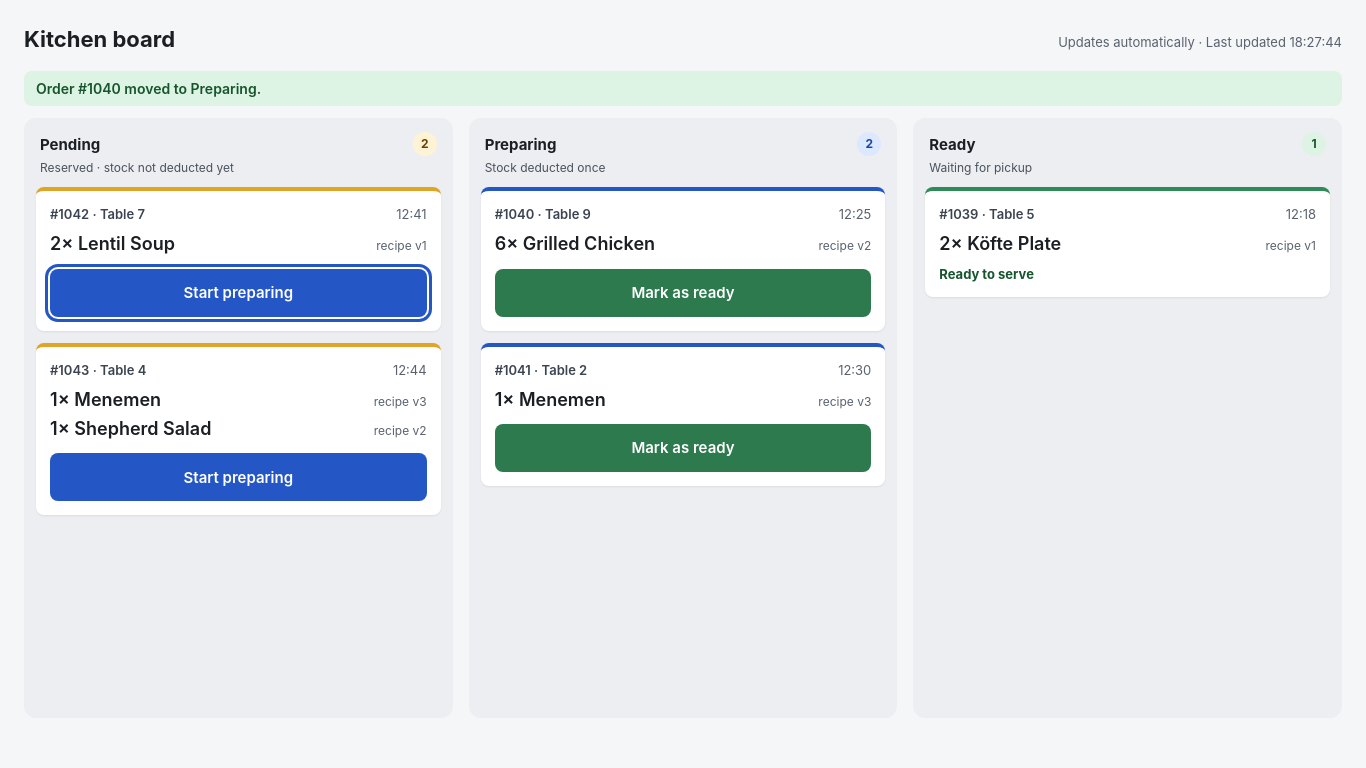
Test case: KitchenBoardPage › keeps the conflict reload when a refresh group is already in flight
The image size is (1366, 768).
Earlier steps of the test are not shown.
Click the button with aria-label "Start preparing order #1043" at x=238, y=477, box top-left (50, 453), bottom-right (427, 501)
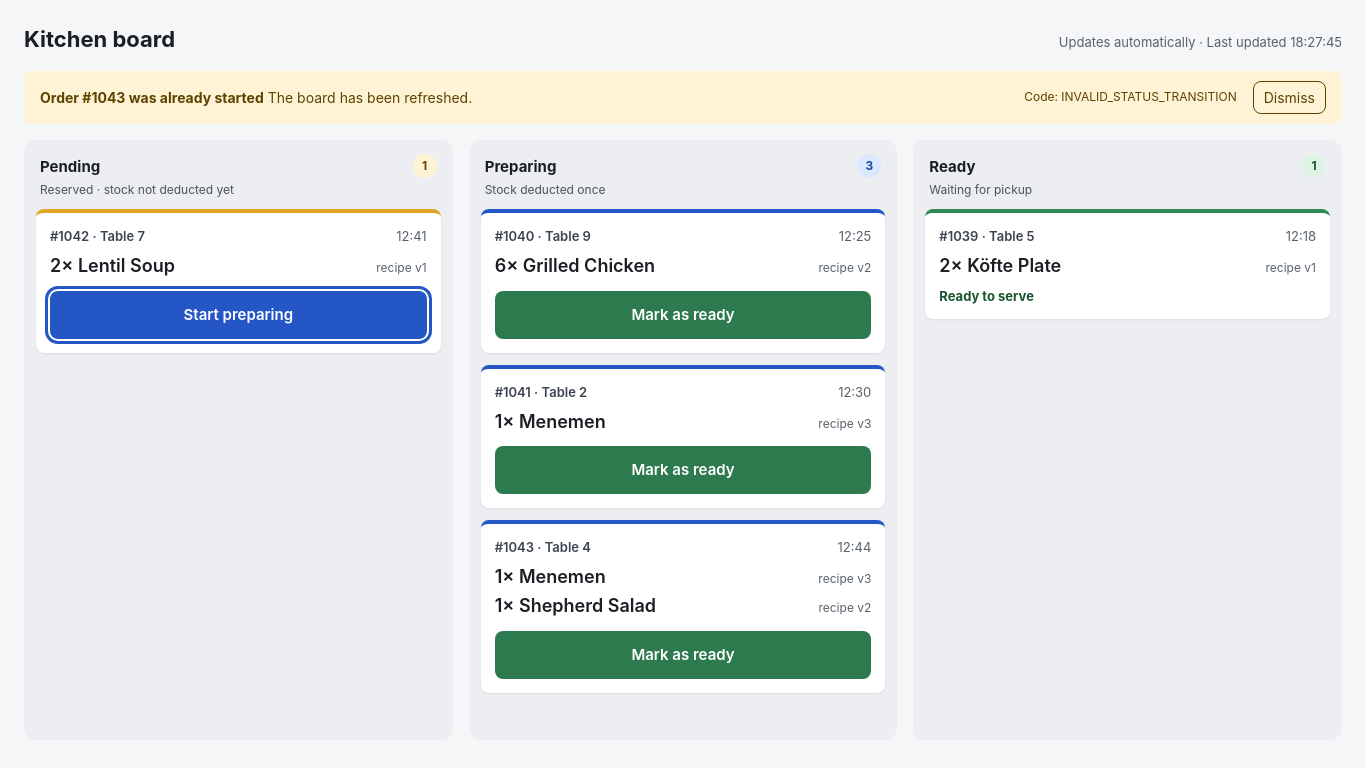
Expected: the heading "#1043 · Table 4" is shown, top-left (495, 538), bottom-right (591, 556)
Expected: the text "Order #1043 was already started" is shown, top-left (40, 89), bottom-right (264, 106)
